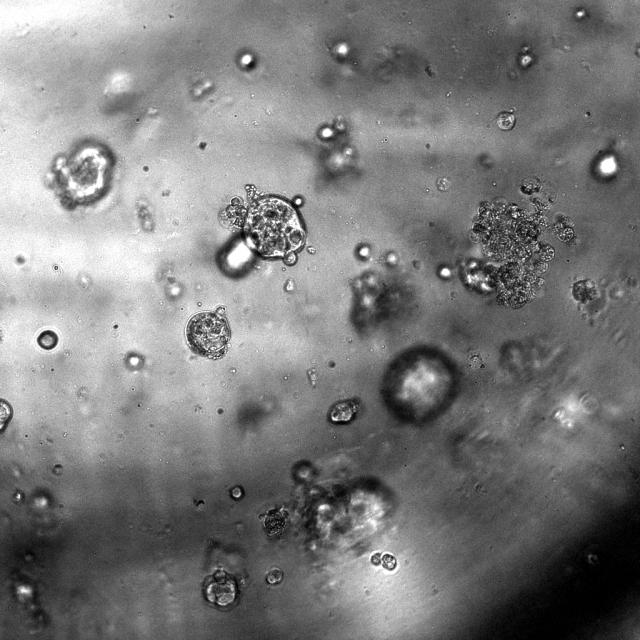organoid: (458, 175, 580, 312), (221, 184, 306, 264), (49, 138, 116, 209), (185, 306, 231, 359), (202, 566, 240, 611), (259, 506, 289, 538), (328, 399, 359, 424), (572, 280, 598, 303), (36, 329, 59, 351), (370, 551, 396, 570), (0, 398, 13, 433), (495, 110, 516, 130), (265, 566, 284, 587), (228, 485, 244, 501)
